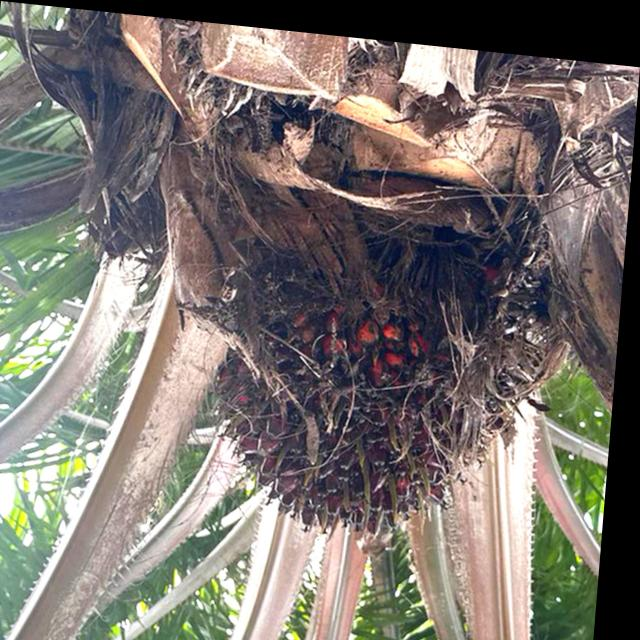ripe: (182, 214, 558, 566)
